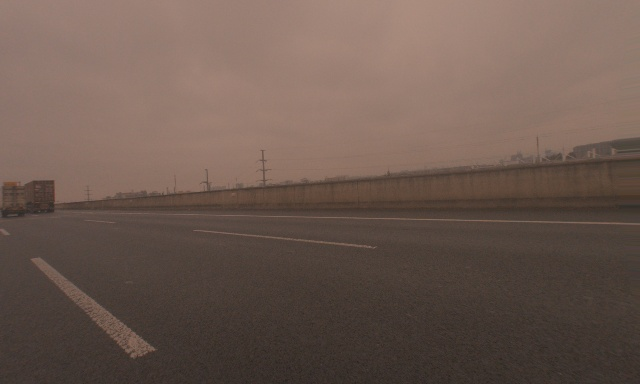truck: (22, 180, 55, 212), (0, 186, 27, 216)
